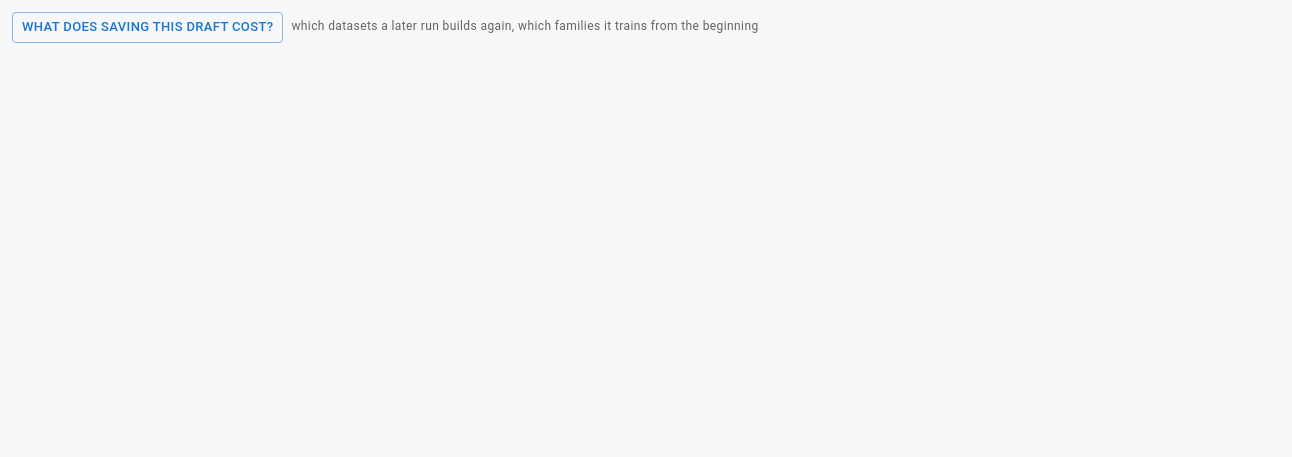
what saving the draft would cost › asks the server for this draft and shows its answer
The image size is (1292, 457).
Click the button with test id "consequences-check": [148, 27] box [12, 12, 283, 43]
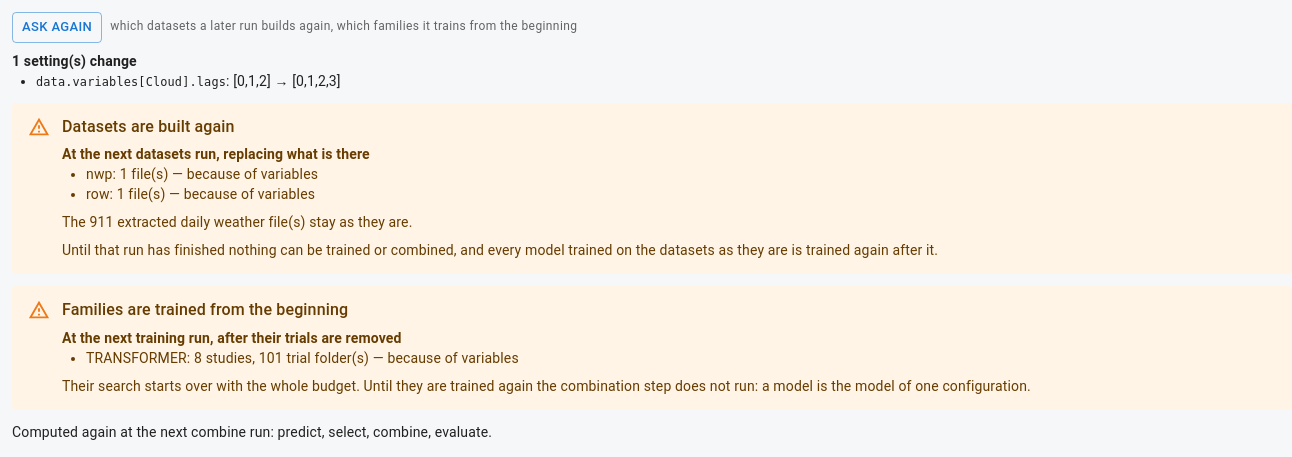
Expected: the message with test id "consequences-families" shows "TRANSFORMER", [86, 350, 519, 366]
Expected: the button with test id "consequences-check" reads "Ask again", [12, 12, 102, 43]
